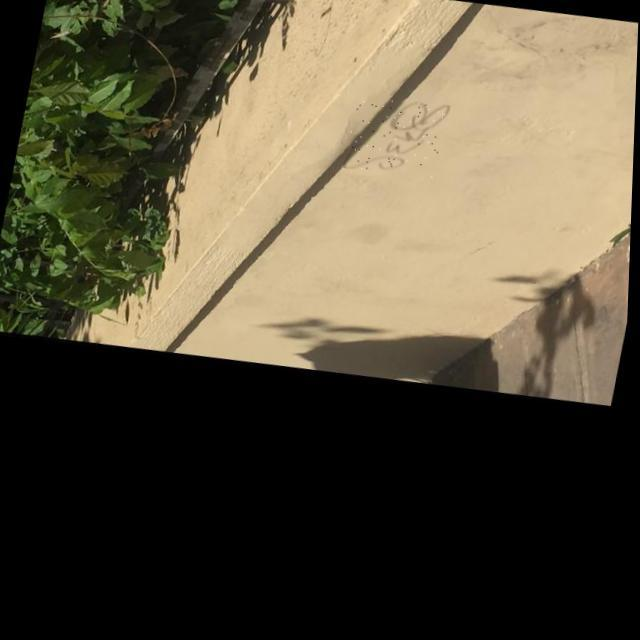-: (344, 95, 454, 186)
